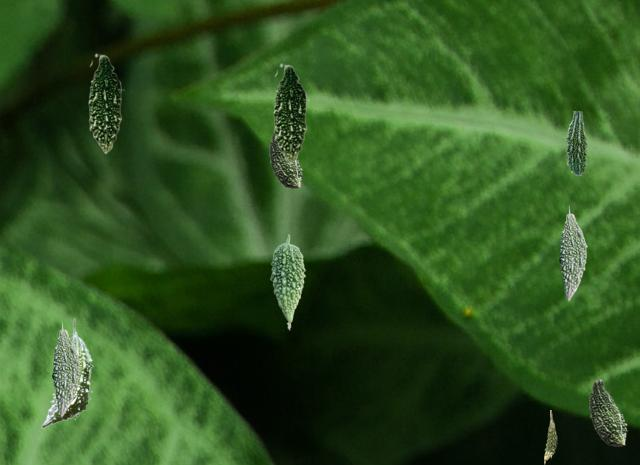ampalaya: (41, 318, 92, 427), (273, 63, 308, 163), (88, 53, 123, 153), (270, 234, 304, 329), (559, 205, 586, 300), (52, 321, 79, 416), (589, 378, 626, 445), (269, 132, 301, 187), (565, 111, 586, 174), (544, 410, 556, 463)
